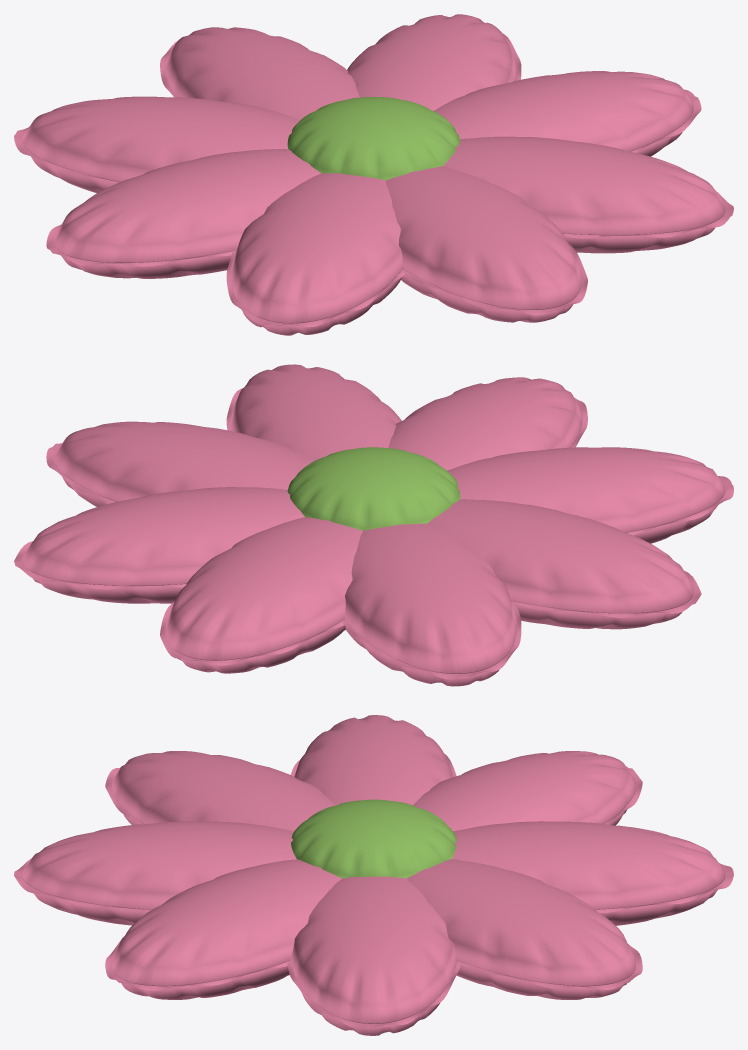
Rendered from daisy.glb.
3 views of the same model, one above another, from view 1: azimuth 30°, elevation 25°; view 2: azimuth 150°, elevation 25°; view 3: azimuth 270°, elevation 25° (orthographic). The views are drawn at different scales.
Visible parts, largest first — view 1: Petal.011, Petal.009, Petal.010, Petal.012, Petal.008, Petal.005, Petal.007, Petal.006, Center.001, Petal weld.010, Petal weld.011, Petal weld.009 (+1 smaller); view 2: Petal.007, Petal.009, Petal.008, Petal.006, Petal.010, Petal.005, Petal.011, Petal.012, Center.001, Petal weld.008, Petal weld.007, Petal weld.009 (+2 smaller); view 3: Petal.012, Petal.006, Petal.005, Petal.011, Petal.007, Petal.008, Petal.010, Petal.009, Center.001, Petal weld.005, Petal weld.006, Petal weld.012 (+2 smaller).
Part boxes in pixels (<box>): Petal.011: <box>386,166,582,322</box>; Petal.009: <box>54,149,320,278</box>; Petal.010: <box>231,173,403,335</box>; Petal.012: <box>443,136,725,253</box>; Petal.008: <box>22,96,300,192</box>; Petal.005: <box>434,71,693,156</box>; Petal.007: <box>165,27,359,119</box>; Petal.006: <box>347,14,516,110</box>; Center.001: <box>287,97,460,180</box>; Petal weld.010: <box>226,250,404,327</box>; Petal weld.011: <box>402,244,587,315</box>; Petal weld.009: <box>46,224,232,266</box>; Petal.007: <box>165,517,362,673</box>; Petal.009: <box>427,499,693,629</box>; Petal.008: <box>344,523,516,686</box>; Petal.006: <box>22,487,304,603</box>; Petal.010: <box>447,447,725,543</box>; Petal.005: <box>54,421,313,506</box>; Petal.011: <box>388,377,582,470</box>; Petal.012: <box>231,364,401,460</box>; Center.001: <box>287,447,460,530</box>; Petal weld.008: <box>342,602,521,679</box>; Petal weld.007: <box>160,601,343,665</box>; Petal weld.009: <box>511,570,701,617</box>; Petal.012: <box>112,859,341,999</box>; Petal.006: <box>407,859,635,999</box>; Petal.005: <box>291,876,456,1035</box>; Petal.011: <box>22,821,296,925</box>; Petal.007: <box>452,821,725,925</box>; Petal.008: <box>413,751,635,831</box>; Petal.010: <box>112,751,335,831</box>; Petal.009: <box>294,715,453,805</box>; Center.001: <box>291,799,456,878</box>; Petal weld.005: <box>287,960,460,1027</box>; Petal weld.006: <box>457,944,642,989</box>; Petal weld.012: <box>105,935,287,990</box>.
Bounding box in the file's own units: 1.88 × 0.287 × 1.88.
